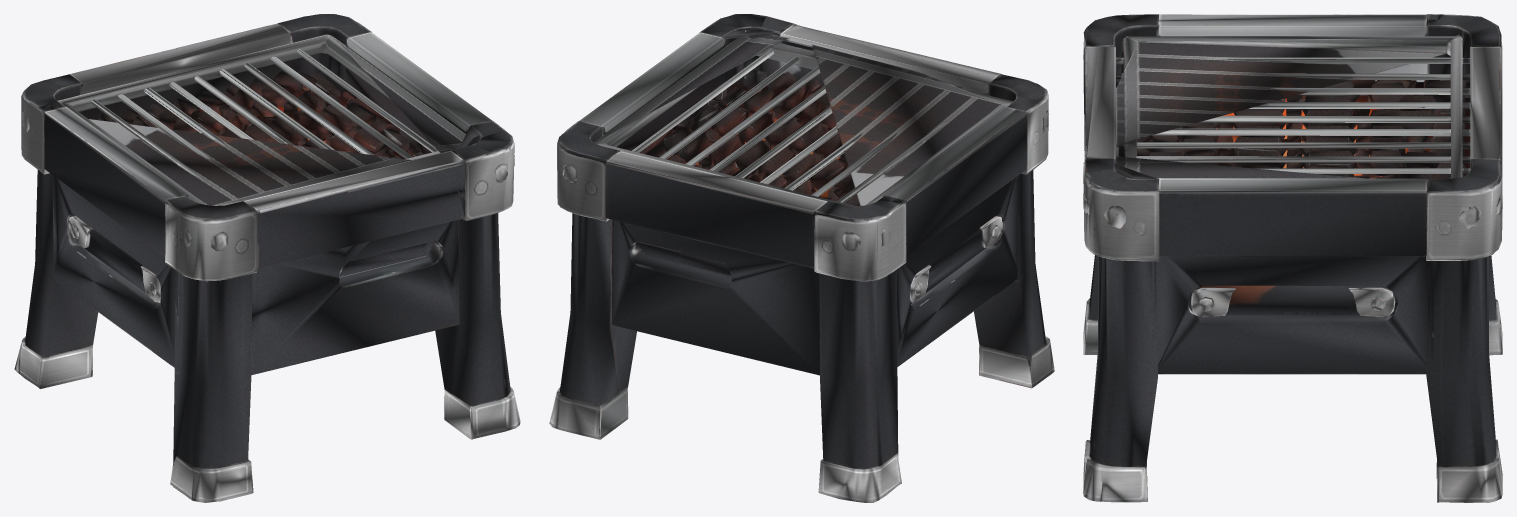
The picture shows the model from 3 angles, left to right: view 1: azimuth 30°, elevation 25°; view 2: azimuth 150°, elevation 25°; view 3: azimuth 270°, elevation 25°; orthographic projection. The views are drawn at different scales.
Parts seen in each view (by area): view 1: Mesh_0; view 2: Mesh_0; view 3: Mesh_0.
Part boxes in pixels (x1,y1,x2,y2): Mesh_0: [14, 14, 520, 502]; Mesh_0: [549, 14, 1054, 502]; Mesh_0: [1083, 14, 1502, 502].
Bounding box in the file's own units: 1.09 × 0.9 × 1.09.
1 material, 1 textured.
